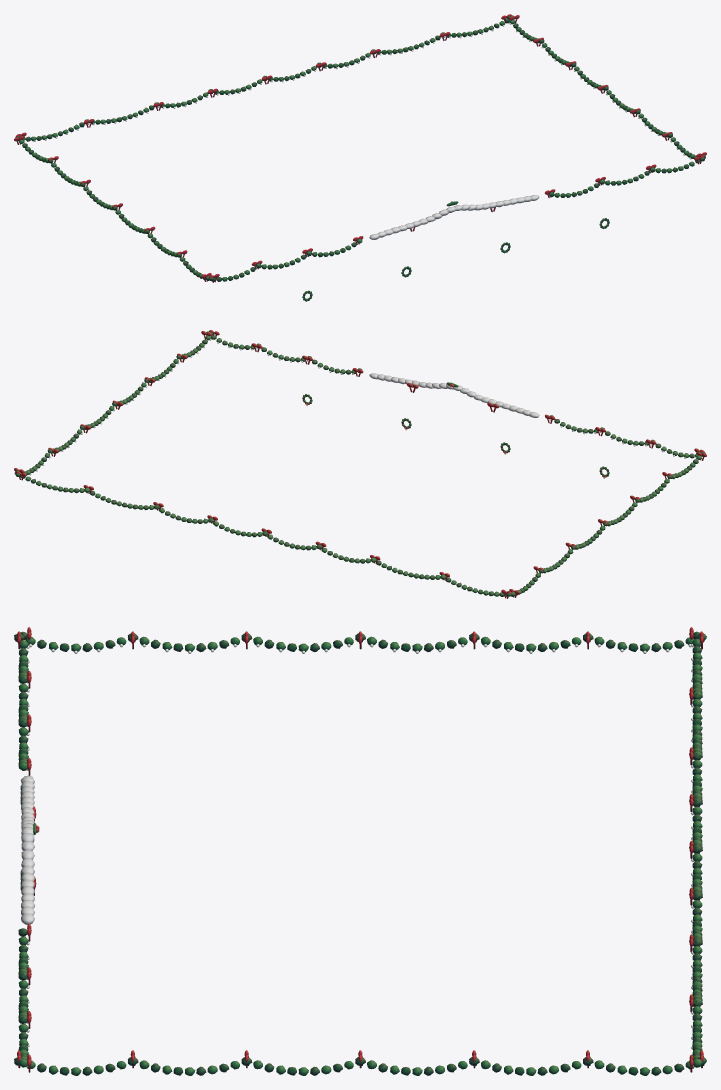
Rendered from XmasInterior.fbx.
3 views of the same model, one above another, from view 1: azimuth 30°, elevation 25°; view 2: azimuth 150°, elevation 25°; view 3: azimuth 270°, elevation 25° (orthographic). The views are drawn at different scales.
Visible parts, largest first — view 1: SM_Xmas_Int_Garland, SM_Xmas_Int_Bows; view 2: SM_Xmas_Int_Garland, SM_Xmas_Int_Bows; view 3: SM_Xmas_Int_Garland, SM_Xmas_Int_Bows, SM_Xmas_Int_Lights.
Boxes of the visible parts, <box> form: SM_Xmas_Int_Garland: <box>15,15,705,281</box>; SM_Xmas_Int_Bows: <box>14,14,706,301</box>; SM_Xmas_Int_Garland: <box>14,331,705,596</box>; SM_Xmas_Int_Bows: <box>14,330,706,598</box>; SM_Xmas_Int_Garland: <box>14,631,706,1075</box>; SM_Xmas_Int_Bows: <box>17,627,703,1072</box>; SM_Xmas_Int_Lights: <box>26,644,693,1067</box>.
Size of the model in its own units: 81.7 by 9.51 by 54.82.
